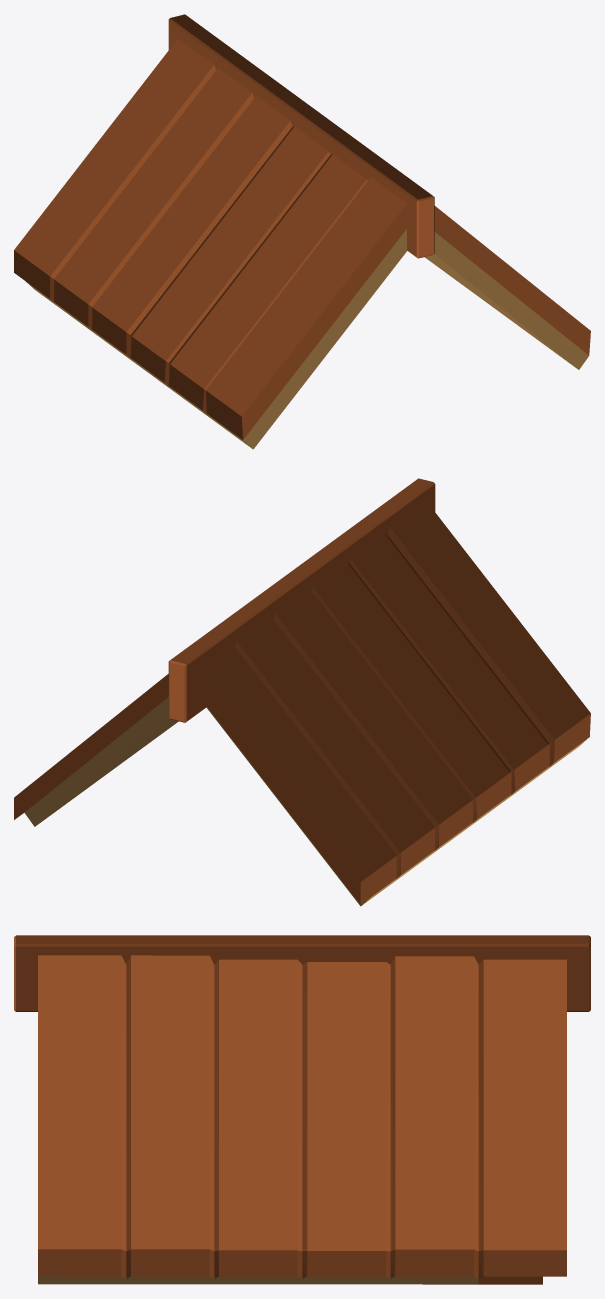
Rendered from house_07.FBX.
3 views of the same model, one above another, from view 1: azimuth 30°, elevation 25°; view 2: azimuth 150°, elevation 25°; view 3: azimuth 270°, elevation 25° (orthographic). The views are drawn at different scales.
Visible parts, largest first — view 1: Box037; view 2: Box037; view 3: Box037.
Boxes of the visible parts, left/top/right/bottom form: Box037: left=14, top=14, right=590, bottom=449; Box037: left=14, top=478, right=590, bottom=906; Box037: left=14, top=935, right=590, bottom=1284.
Size of the model in its own units: 102 by 61.03 by 126.
1 material, 1 textured.
